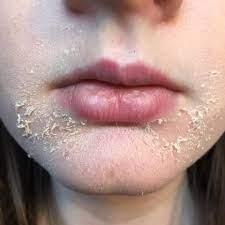Dry-Skin: (46, 113, 86, 148), (150, 123, 184, 157), (186, 101, 220, 132), (13, 93, 36, 134)
